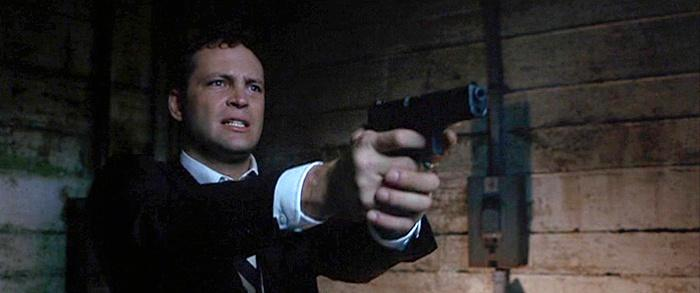gun: (355, 76, 492, 203)
